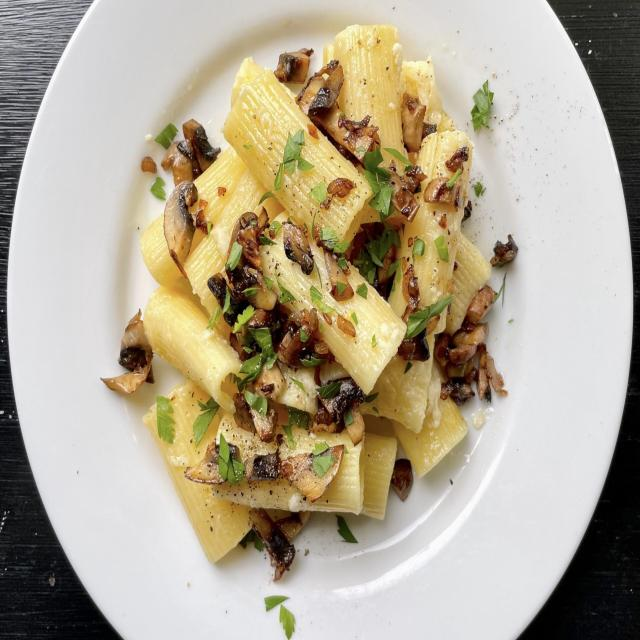pasta: (96, 19, 542, 587)
